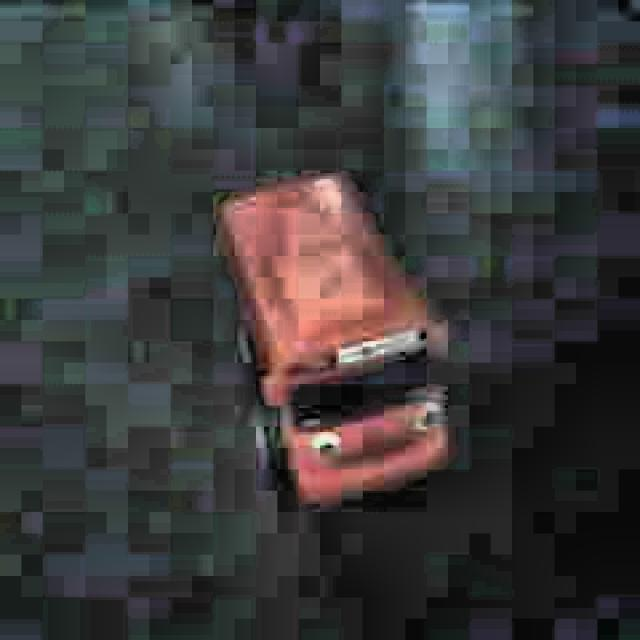bus: (217, 164, 456, 507)
